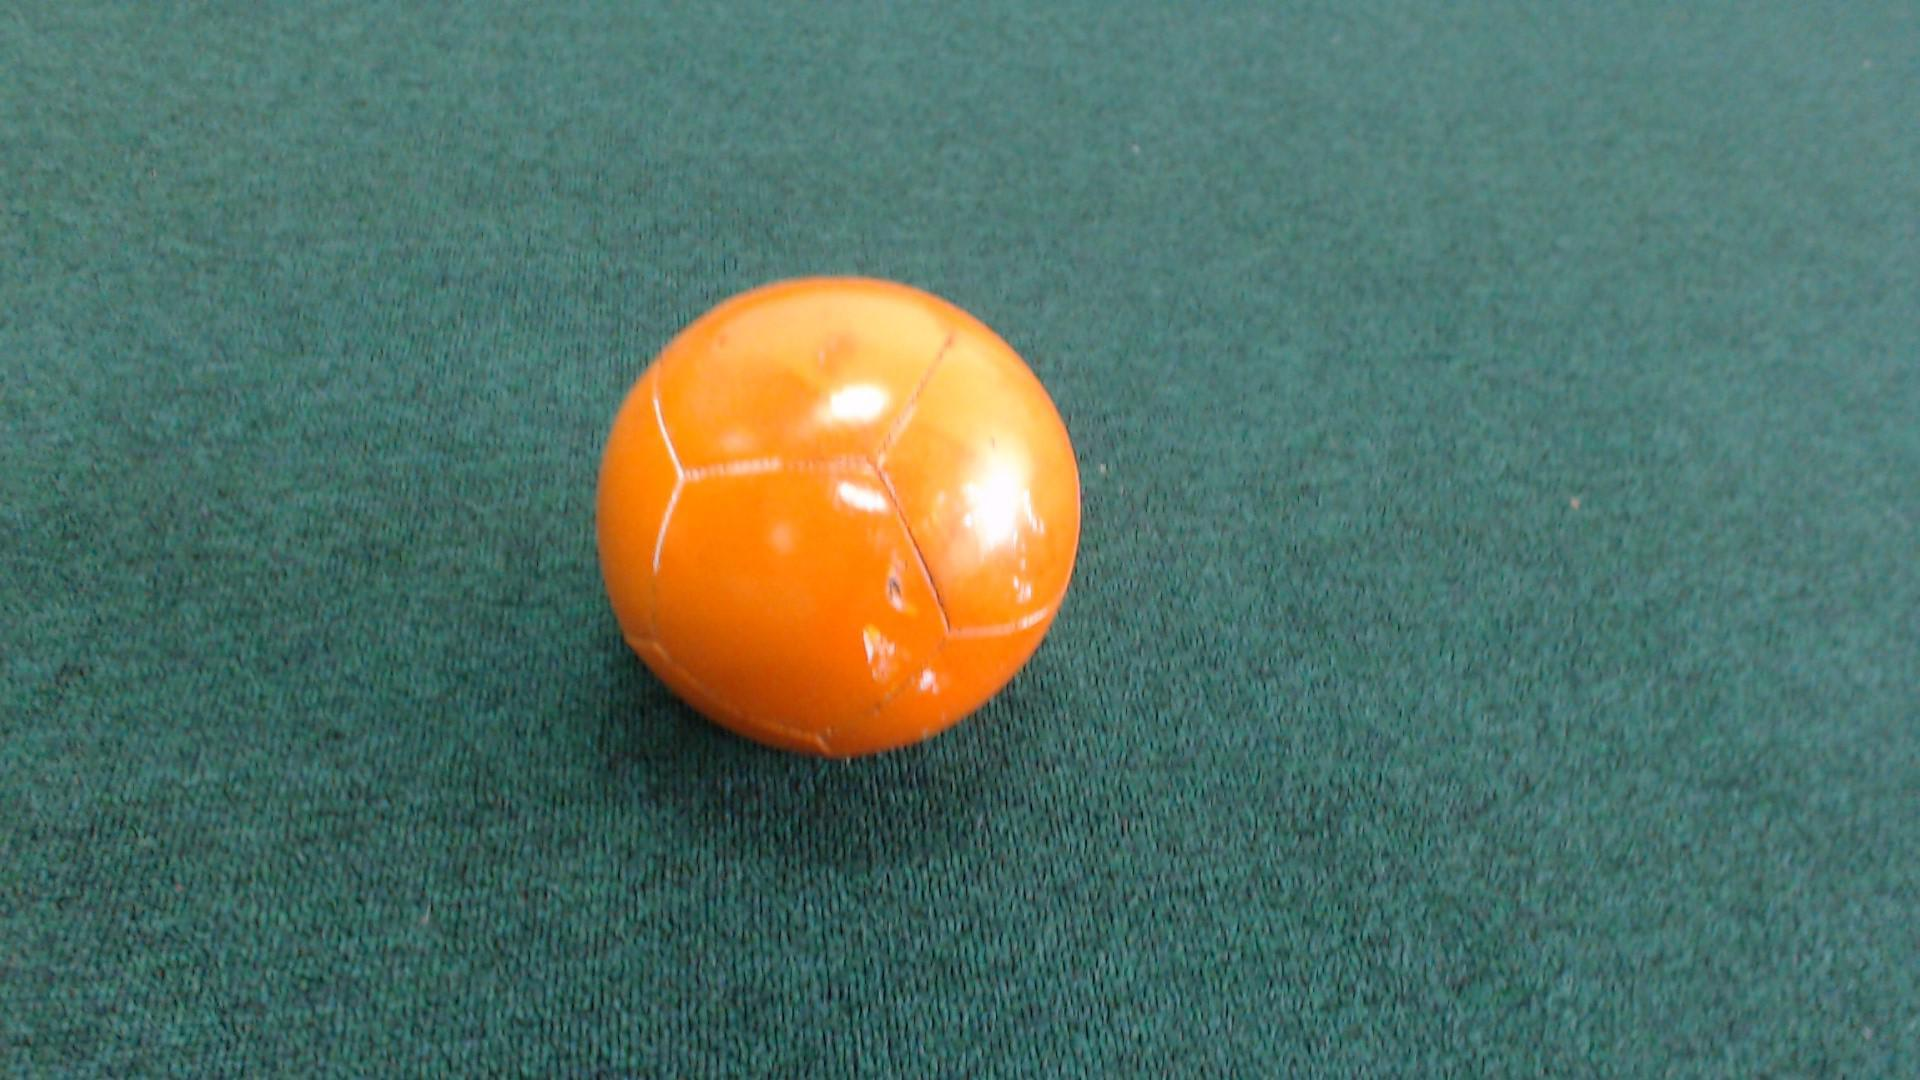bola: (558, 249, 1125, 785)
